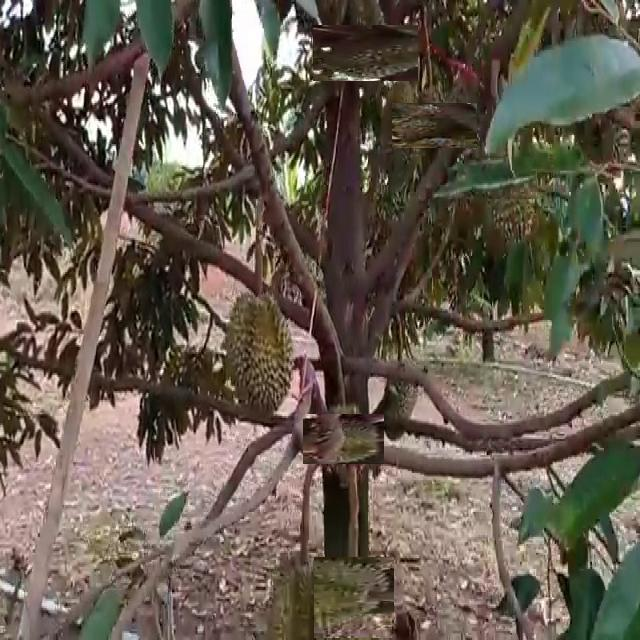durian: (220, 284, 296, 422), (324, 12, 406, 94), (313, 557, 394, 638), (372, 74, 424, 194), (261, 551, 332, 638), (310, 407, 376, 472), (402, 93, 468, 158)
